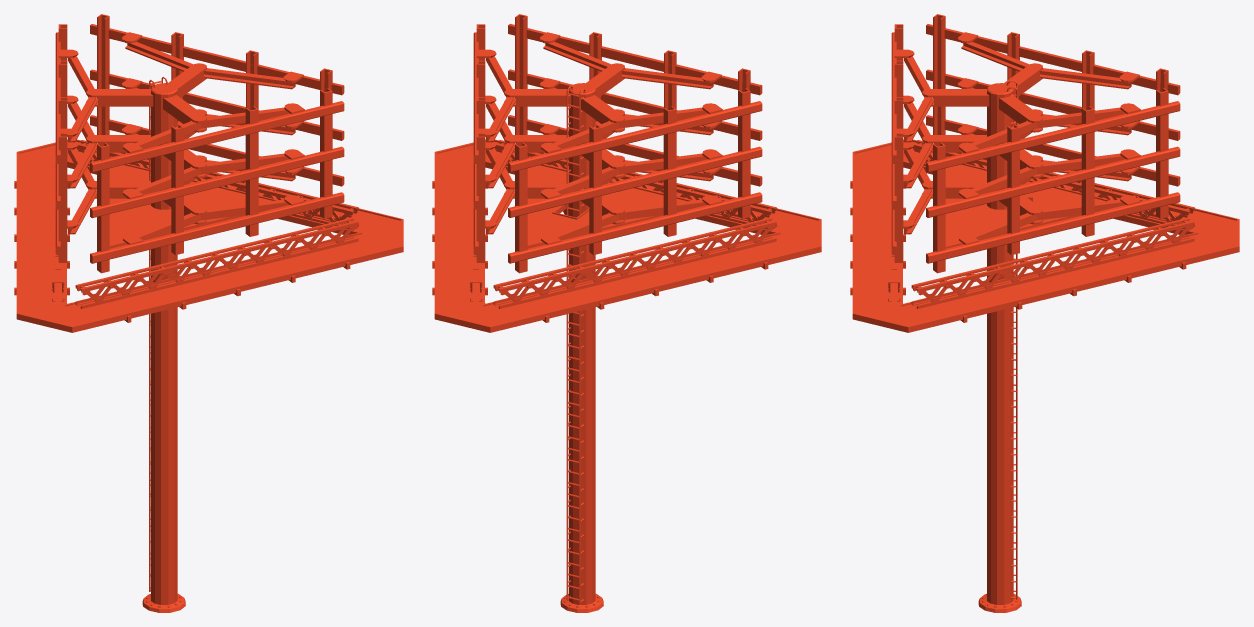
Rendered from SM_Billboard_C_Stand_City.fbx.
3 renders of one model, left to right at view 1: azimuth 30°, elevation 25°; view 2: azimuth 150°, elevation 25°; view 3: azimuth 270°, elevation 25°, orthographic.
Visible parts, largest first — view 1: SM_Billboard_C_Stand_City; view 2: SM_Billboard_C_Stand_City; view 3: SM_Billboard_C_Stand_City.
Boxes of the visible parts, x1,y1,x2,y2 form: SM_Billboard_C_Stand_City: (14, 14, 403, 612); SM_Billboard_C_Stand_City: (432, 14, 821, 612); SM_Billboard_C_Stand_City: (850, 14, 1239, 612).
Size of the model in its own units: 14.16 by 18.27 by 12.33.
